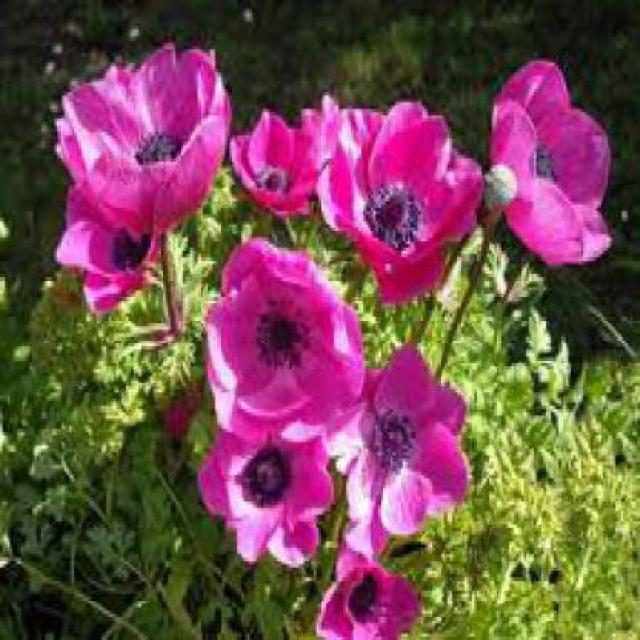Flower: (314, 99, 485, 304), (200, 238, 366, 445), (55, 42, 230, 235), (321, 343, 470, 534), (489, 59, 613, 267), (198, 399, 333, 568), (56, 181, 173, 314), (230, 102, 328, 221), (316, 548, 422, 637), (363, 181, 423, 254), (256, 300, 312, 369), (373, 410, 415, 476), (247, 446, 290, 509), (129, 133, 186, 179), (524, 146, 556, 192), (116, 225, 149, 268), (351, 574, 375, 620), (257, 165, 289, 199)
